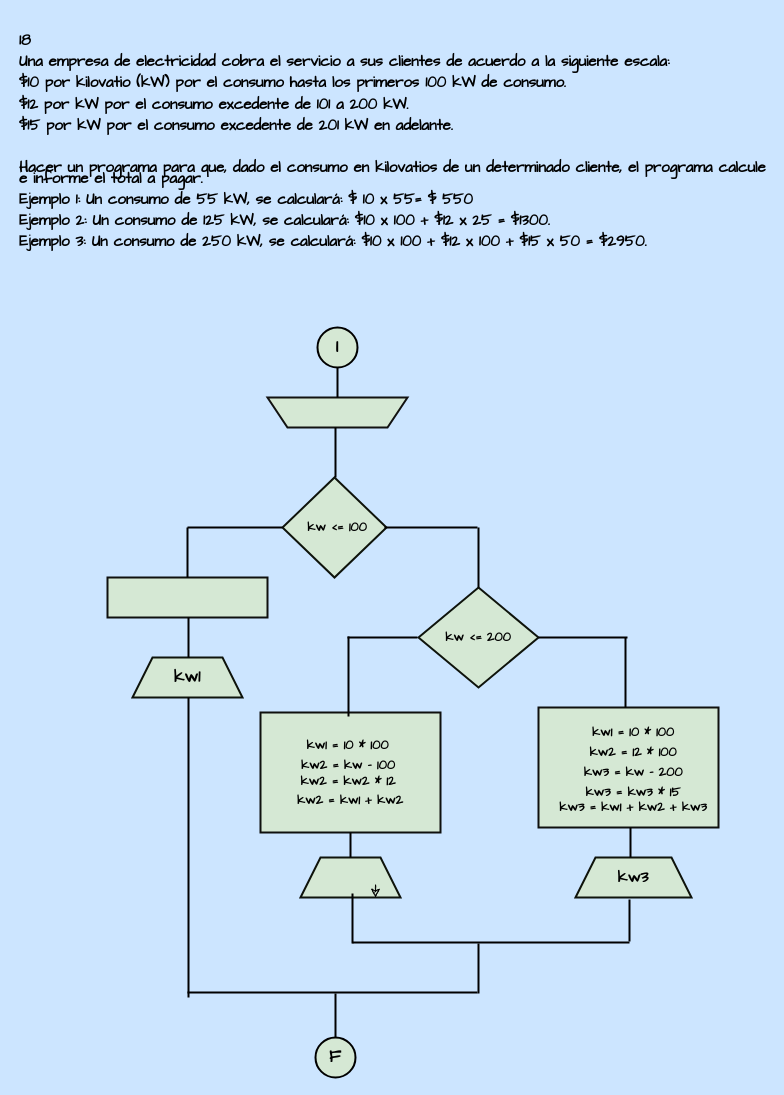
Some shapes in this 784 by 1095 pixel diagram are drawn without their labels. Each missing label, with the centre of its shape:
kw: the point at 337,412
kw1 = 10 * kw: the point at 187,597
kw2: the point at 350,877
